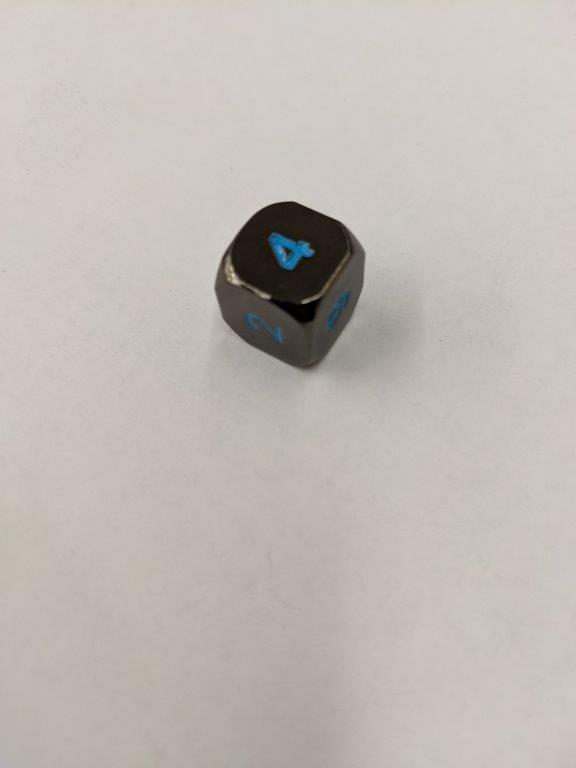d6-4: (214, 204, 365, 367)
